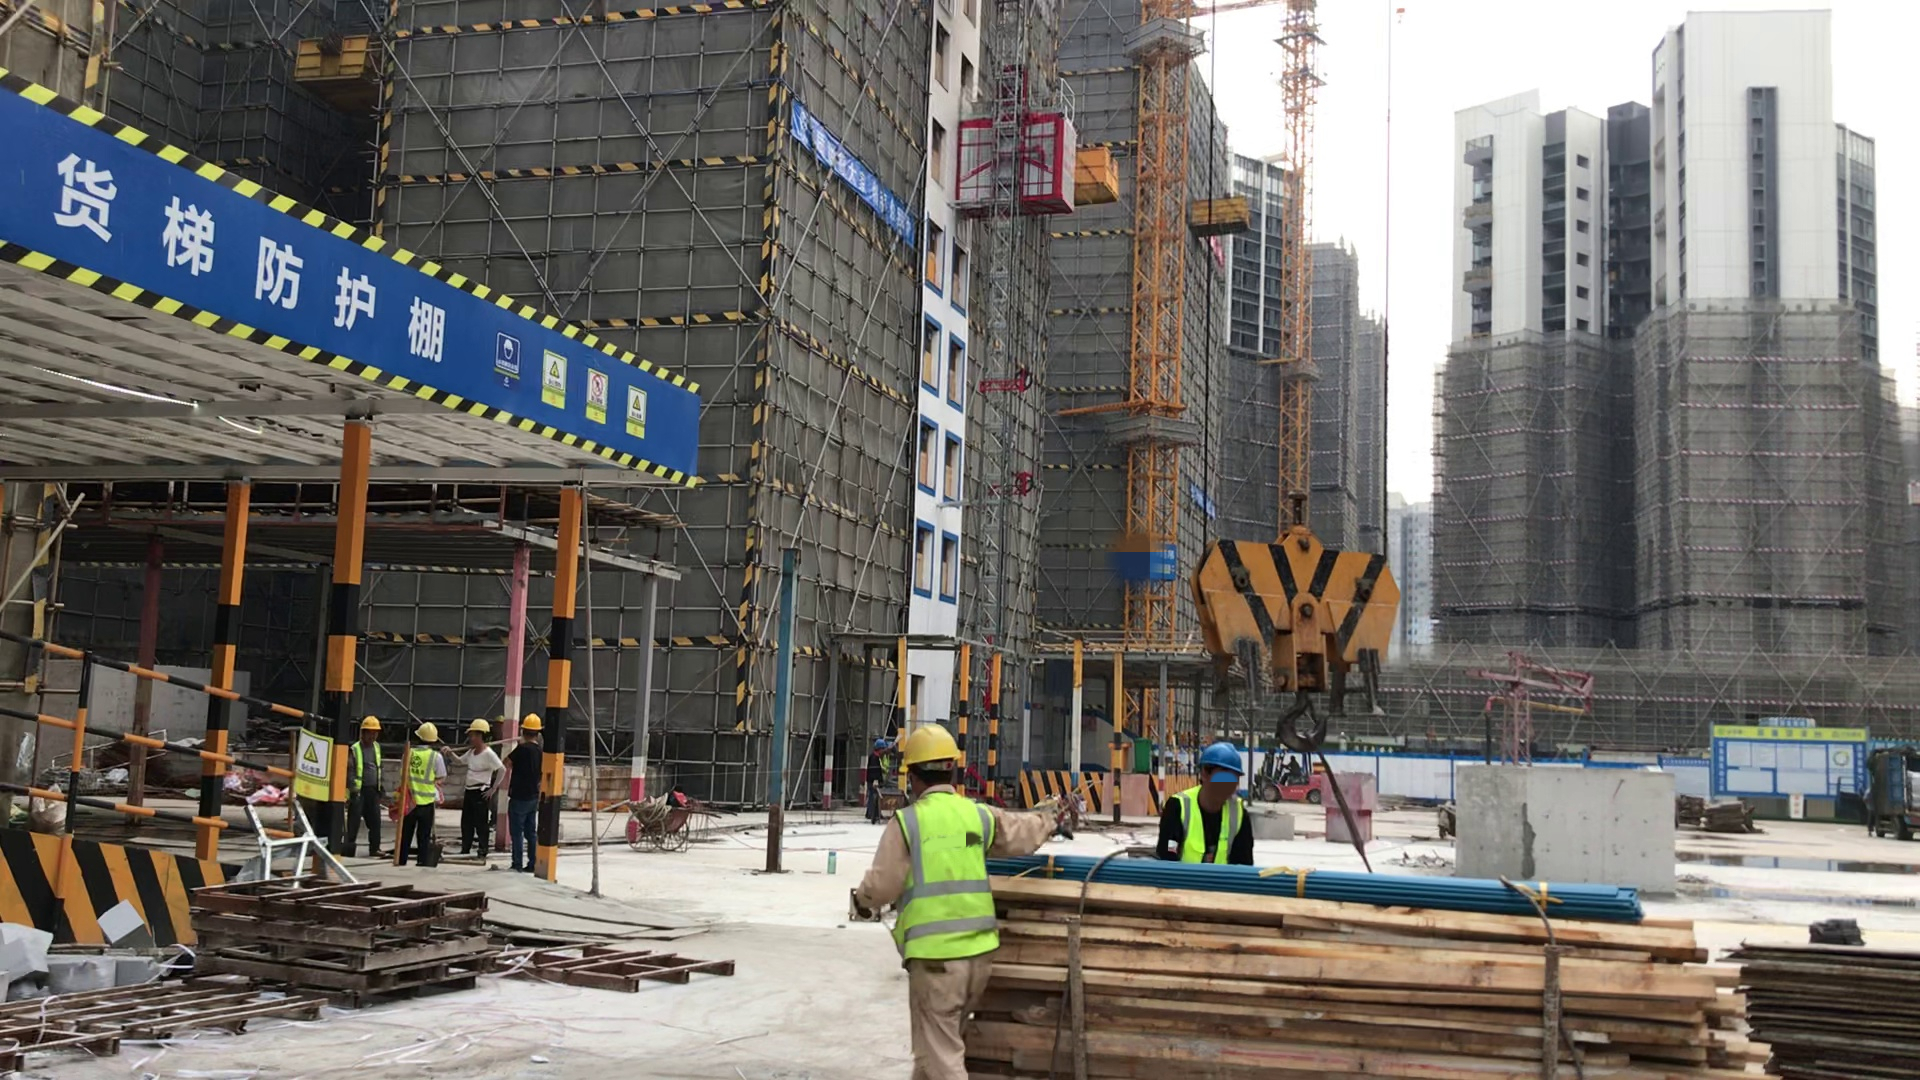board: (1731, 933, 1920, 1077)
handcart: (614, 790, 717, 854), (1041, 778, 1099, 829)
helmet: (901, 725, 965, 770), (1201, 741, 1250, 774), (522, 711, 545, 733), (466, 716, 490, 736), (415, 722, 438, 743), (359, 716, 382, 733), (872, 739, 888, 751)
hook: (1199, 527, 1400, 756)
person: (871, 725, 1003, 1080), (1150, 740, 1258, 871), (394, 720, 447, 864), (499, 709, 542, 877), (454, 716, 500, 861), (346, 711, 385, 865), (855, 736, 889, 816), (1284, 755, 1302, 783)
slogan: (56, 185, 450, 340), (791, 95, 915, 254), (496, 328, 661, 439), (289, 726, 334, 800)
vest: (892, 798, 1001, 960), (1170, 786, 1242, 864), (349, 739, 384, 794), (406, 750, 439, 805)
wood: (978, 850, 1762, 1077)
